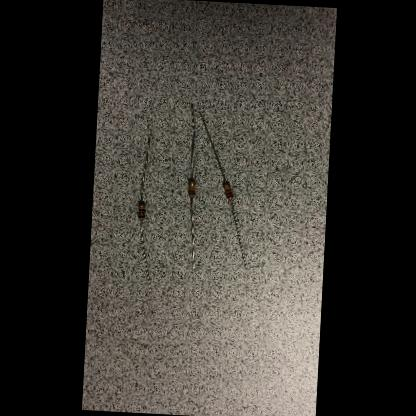resistor: (221, 181, 232, 199), (187, 178, 195, 196), (138, 202, 145, 219)
wire: (194, 110, 230, 180), (226, 198, 250, 268), (136, 219, 154, 290), (138, 128, 150, 201), (185, 197, 196, 268), (186, 102, 196, 178)
